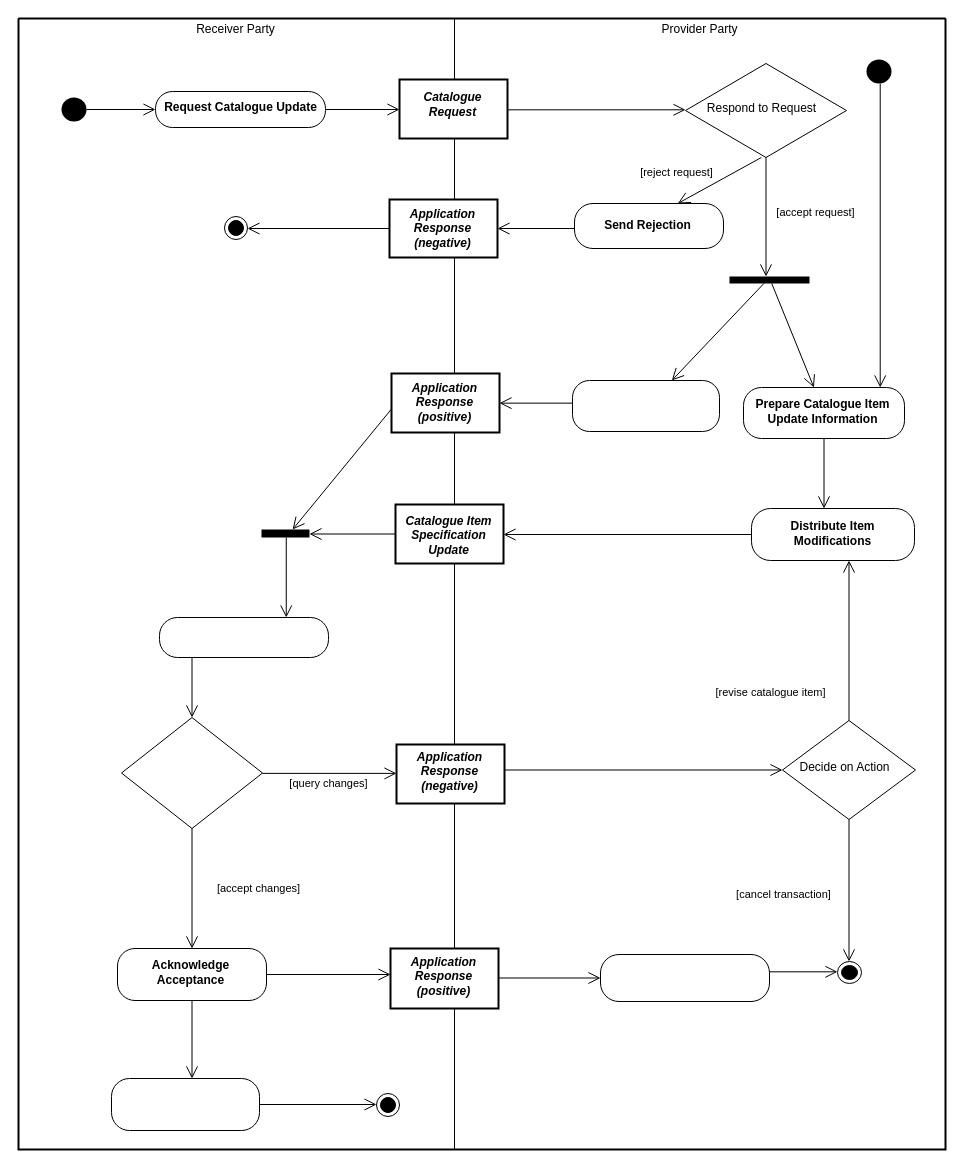
This 963x1167 diagram has some shape labels left out. The centre of each missing label's shape, as x and y in pixels:
Activate Changes: the point at 685,978
Apply Changes: the point at 185,1104
Customer Initiated Update: the point at 73,109
Receive Item Update: the point at 243,637
Review Item Details: the point at 191,772
Send Acceptance Response: the point at 646,406
Supplier Initiated Update: the point at 878,71
